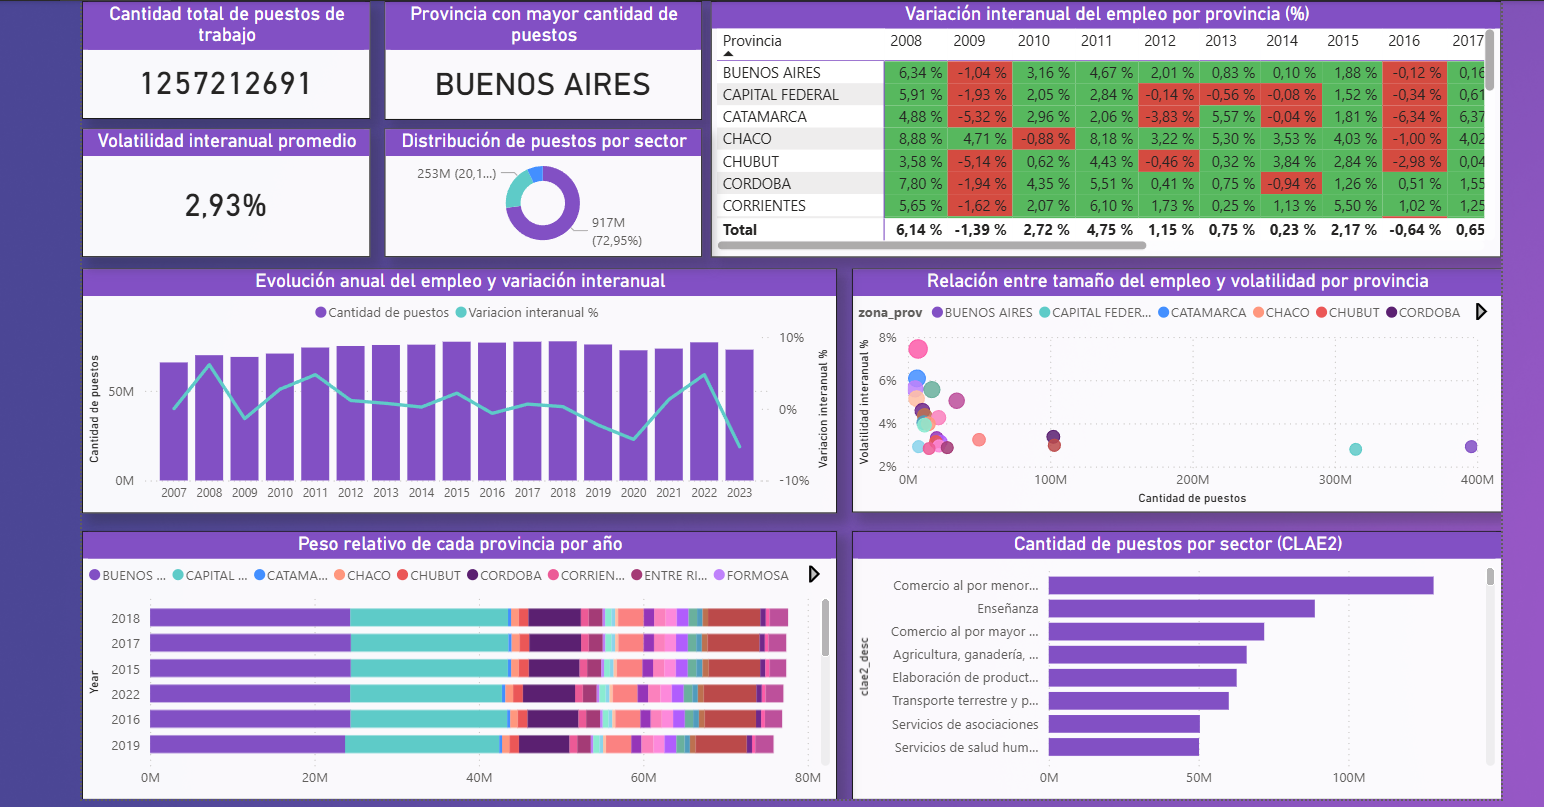

Layout of this report page (visuals, bound fields, positions):
{"tool":"powerbi","page":{"name":"Page 1","canvas":[1280,720],"ordinal":0},"visuals":[{"type":"barChart","title":"Cantidad de puestos por sector (CLAE2)","fields":{"Y":["Sum(puestos_priv.puestos)"],"Category":["clae_agg.clae2_desc"]},"box":[693.9,478.2,586.1,242.1],"z":0},{"type":"barChart","title":"Peso relativo de cada provincia por año","fields":{"Category":["puestos_priv.fecha.Variation.Date Hierarchy.Year"],"Y":["Sum(puestos_priv.puestos)"],"Series":["puestos_priv.zona_prov"]},"box":[0,478.2,680.7,242.1],"z":1000},{"type":"scatterChart","title":"Relación entre tamaño del empleo y volatilidad por provincia","fields":{"Series":["puestos_priv.zona_prov"],"Y":["puestos_priv.Volatilidad"],"Size":["puestos_priv.Volatilidad"],"X":["Sum(puestos_priv.puestos)"]},"box":[694.3,241.2,586.1,219.8],"z":2000},{"type":"lineStackedColumnComboChart","title":"Evolución anual del empleo y variación interanual","fields":{"Category":["puestos_priv.fecha.Variation.Date Hierarchy.Year"],"Y":["Sum(puestos_priv.puestos)"],"Y2":["puestos_priv.Variacion interanual"]},"box":[0,240.9,680.7,220.5],"z":3000},{"type":"card","title":"Cantidad total de puestos de trabajo","fields":{"Values":["Sum(puestos_priv.puestos)"]},"box":[0,0,260.1,106.7],"z":4000},{"type":"card","title":"Provincia con mayor cantidad de puestos","fields":{"Values":["puestos_priv.Mayor provincia"]},"box":[272.8,0,286.3,107.1],"z":5000},{"type":"card","title":"Volatilidad interanual promedio","fields":{"Values":["puestos_priv.Volatilidad"]},"box":[0,115.1,260.1,116.3],"z":6000},{"type":"pivotTable","title":"Variación interanual del empleo por provincia (%)","fields":{"Rows":["puestos_priv.zona_prov"],"Columns":["puestos_priv.año"],"Values":["puestos_priv.Variacion interanual"]},"box":[566.9,0,713.1,231.3],"z":7000},{"type":"donutChart","title":"Distribución de puestos por sector","fields":{"Category":["clae_agg.Sector"],"Y":["Sum(puestos_priv.puestos)"]},"box":[272.8,115,286.3,116.1],"z":8000}]}

Visuals, with their boxes in screenshot pixels (x1, y1, x2, y2):
"Cantidad de puestos por sector (CLAE2)" barChart: 849/525/1497/793
"Peso relativo de cada provincia por año" barChart: 80/525/834/793
"Relación entre tamaño del empleo y volatilidad por provincia" scatterChart: 849/263/1498/506
"Evolución anual del empleo y variación interanual" lineStackedColumnComboChart: 80/263/834/507
"Cantidad total de puestos de trabajo" card: 80/0/368/114
"Provincia con mayor cantidad de puestos" card: 382/0/699/115
"Volatilidad interanual promedio" card: 80/123/368/252
"Variación interanual del empleo por provincia (%)" pivotTable: 708/0/1497/252
"Distribución de puestos por sector" donutChart: 382/123/699/252
